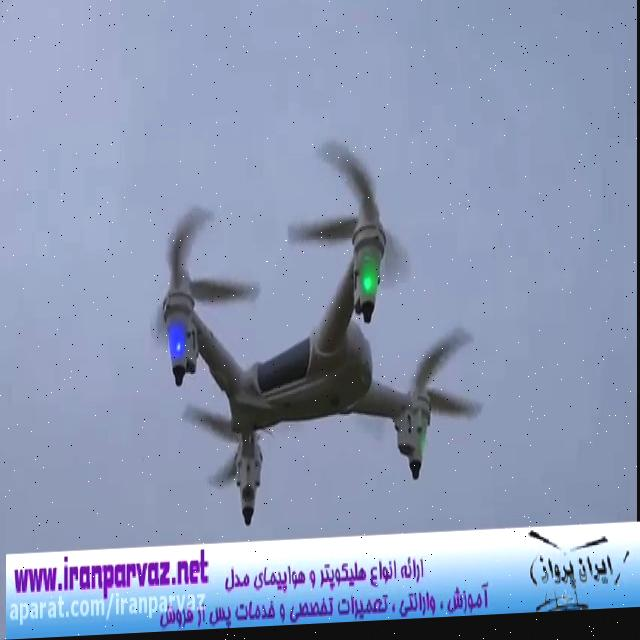drone: (144, 126, 487, 538)
